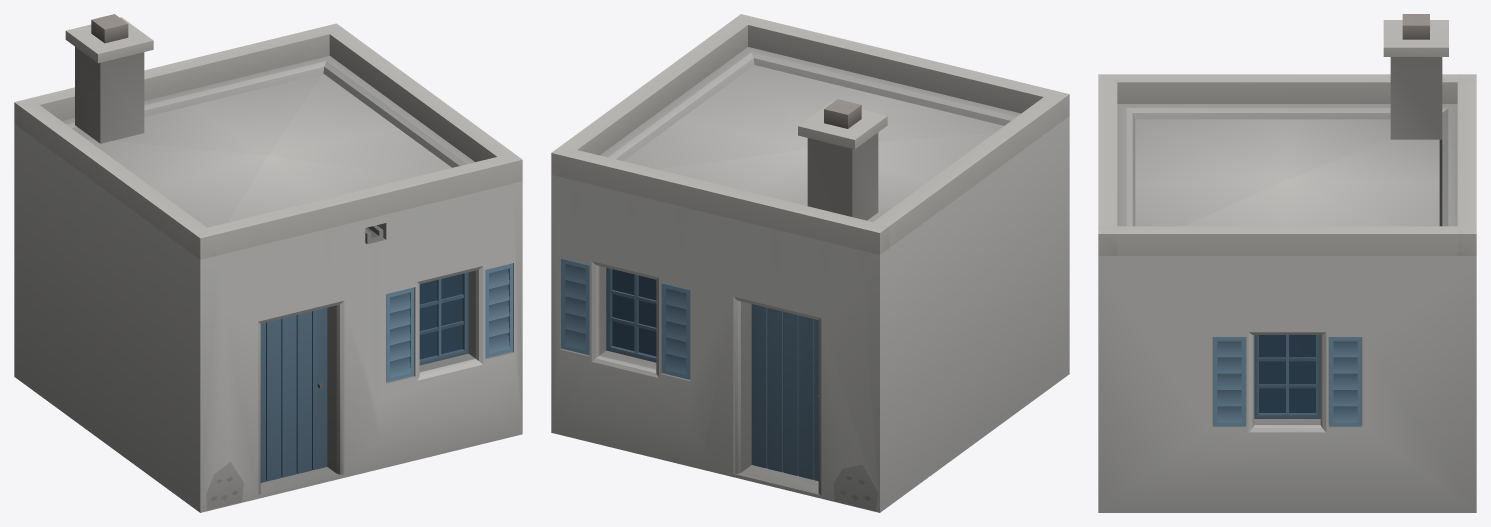
3 renders of one model, left to right at view 1: azimuth 30°, elevation 25°; view 2: azimuth 150°, elevation 25°; view 3: azimuth 270°, elevation 25°, orthographic.
Visible parts, largest first — view 1: cube1; view 2: cube1; view 3: cube1.
Boxes of the visible parts, x1,y1,x2,y2 form: cube1: (14,14,522,512); cube1: (551,14,1069,512); cube1: (1098,14,1476,512).
Size of the model in its own units: 4.4 by 4.7 by 4.4.
